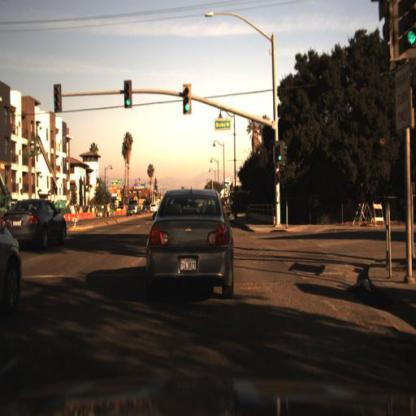car: (137, 181, 236, 313), (15, 182, 73, 261), (4, 193, 69, 257), (125, 198, 145, 219), (126, 198, 142, 219)
trafficLight: (180, 76, 193, 117), (49, 77, 62, 113), (120, 72, 132, 108)
trafficLight-Green: (388, 1, 416, 63), (276, 131, 293, 171), (122, 77, 133, 112), (277, 141, 286, 166)
